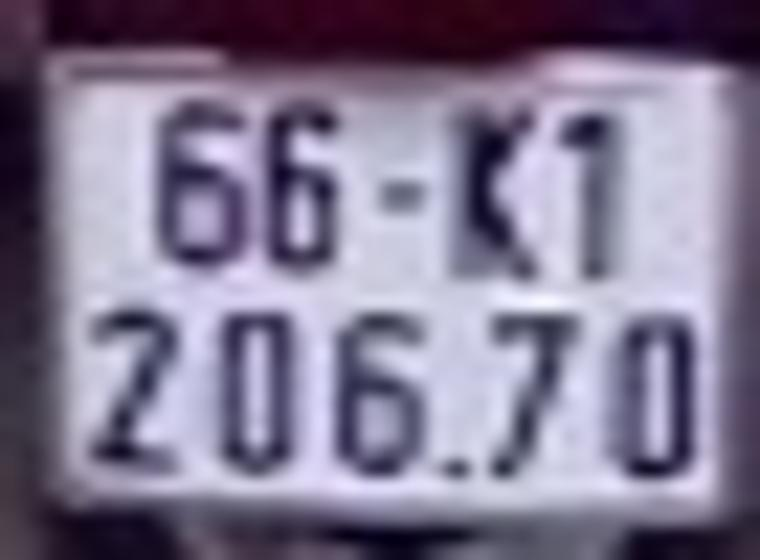-: (369, 177, 436, 210)
.: (446, 451, 479, 491)
0: (606, 315, 705, 489), (214, 304, 301, 480)
1: (558, 100, 622, 284)
2: (86, 306, 190, 481)
6: (154, 91, 253, 276), (331, 305, 430, 479), (268, 91, 342, 272)
7: (488, 305, 587, 487)
K: (450, 92, 552, 289)
